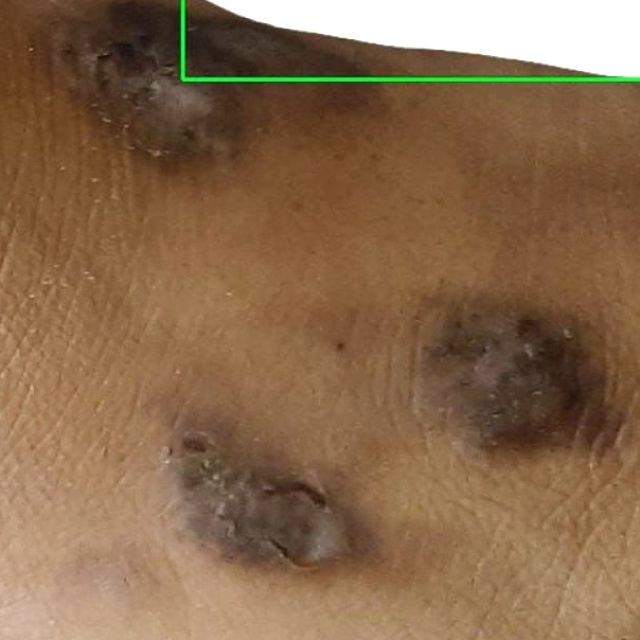Contact Dermatitis: (183, 0, 639, 79)
